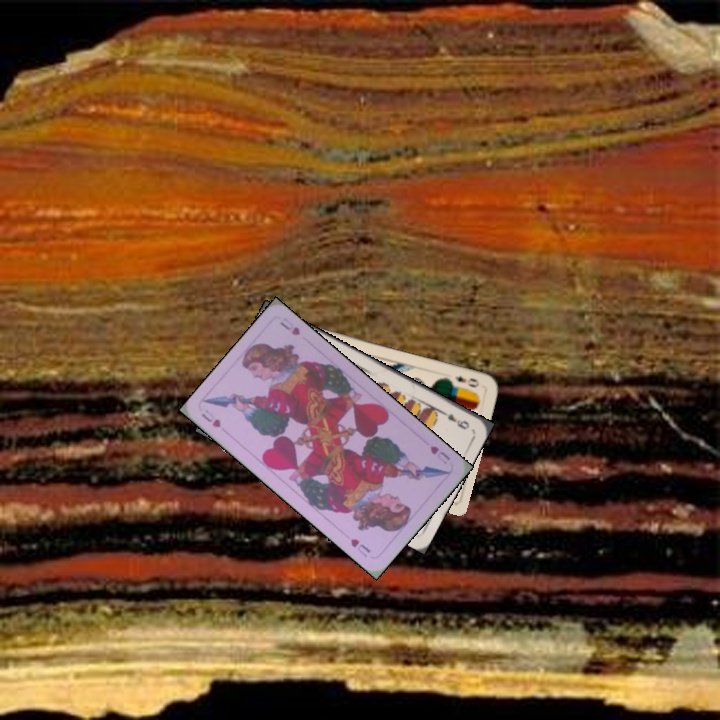E9: (436, 407, 472, 432)
EO: (451, 371, 482, 390)
HU: (426, 441, 453, 463), (197, 409, 224, 430)
